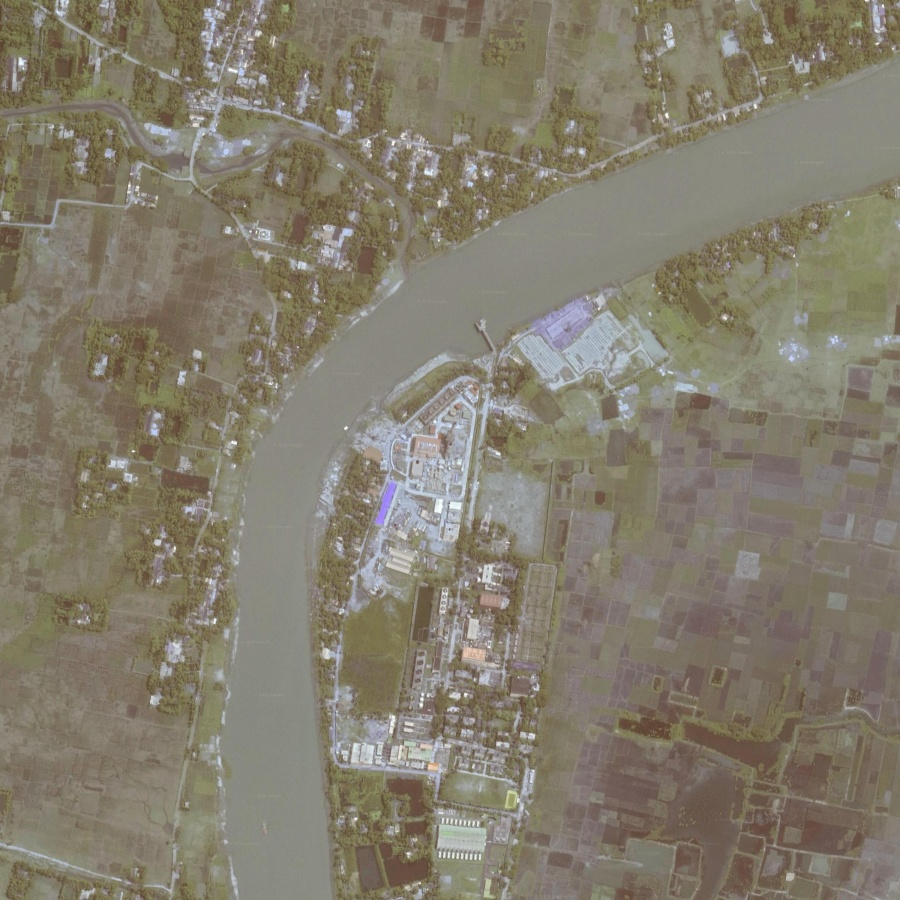PowerPlant: (402, 387, 473, 542)
